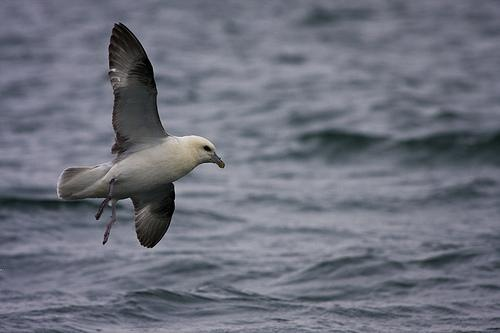bird: (54, 26, 224, 255)
